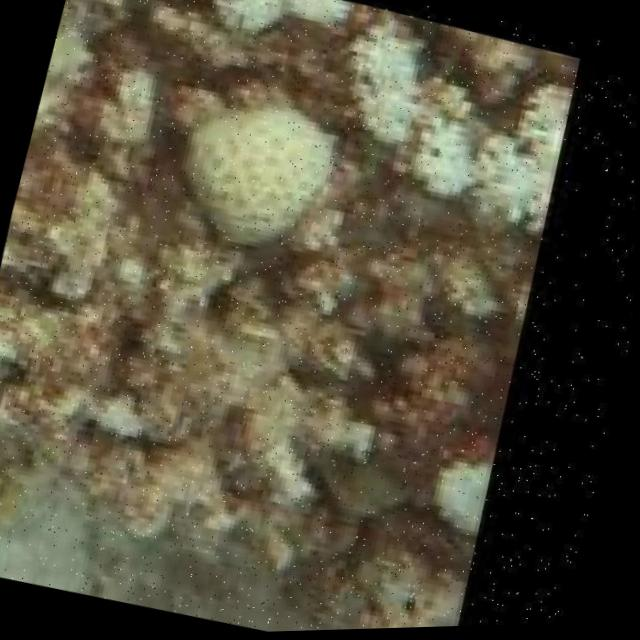Bleached Coral: (329, 0, 591, 239), (146, 60, 355, 259), (73, 0, 337, 73)
